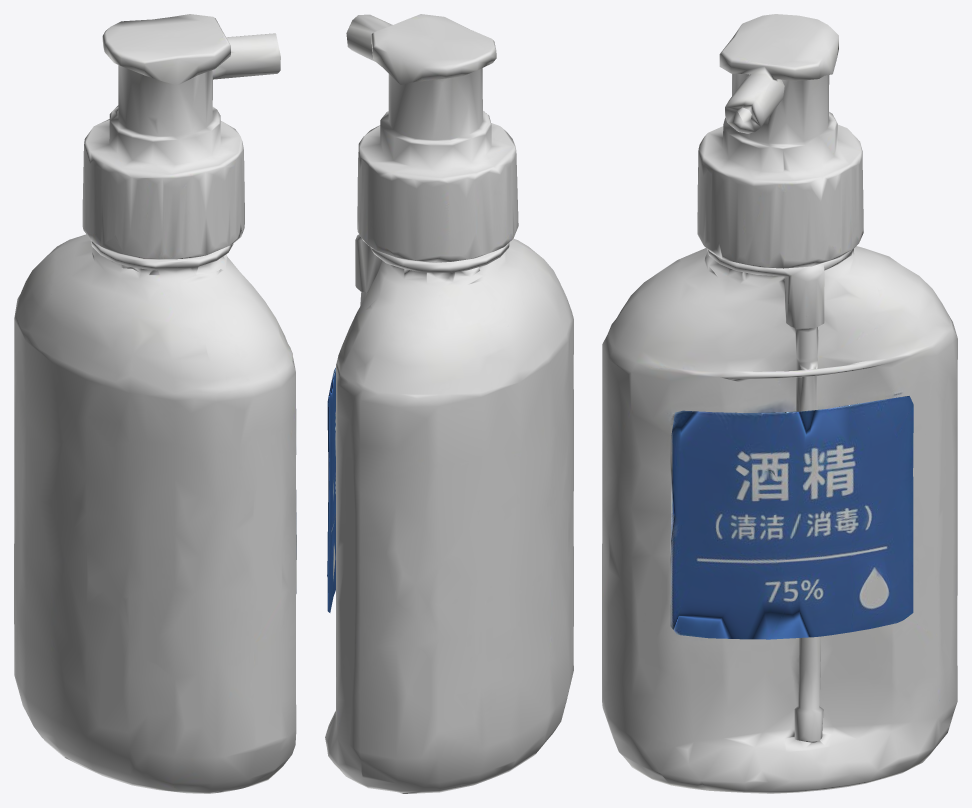
Rendered from alcohol-bottle.glb.
The picture shows the model from 3 angles, left to right: view 1: azimuth 30°, elevation 25°; view 2: azimuth 150°, elevation 25°; view 3: azimuth 270°, elevation 25°; orthographic projection. The views are drawn at different scales.
Visible parts, largest first — view 1: tripo_node_45b4199c-f199-4b64-b518-a412b93a982c; view 2: tripo_node_45b4199c-f199-4b64-b518-a412b93a982c; view 3: tripo_node_45b4199c-f199-4b64-b518-a412b93a982c.
Boxes of the visible parts, x1,y1,x2,y2 form: tripo_node_45b4199c-f199-4b64-b518-a412b93a982c: [14, 14, 296, 793]; tripo_node_45b4199c-f199-4b64-b518-a412b93a982c: [325, 14, 573, 793]; tripo_node_45b4199c-f199-4b64-b518-a412b93a982c: [602, 14, 957, 793].
Size of the model in its own units: 0.3199 by 1 by 0.4525.
1 material, 1 textured.
